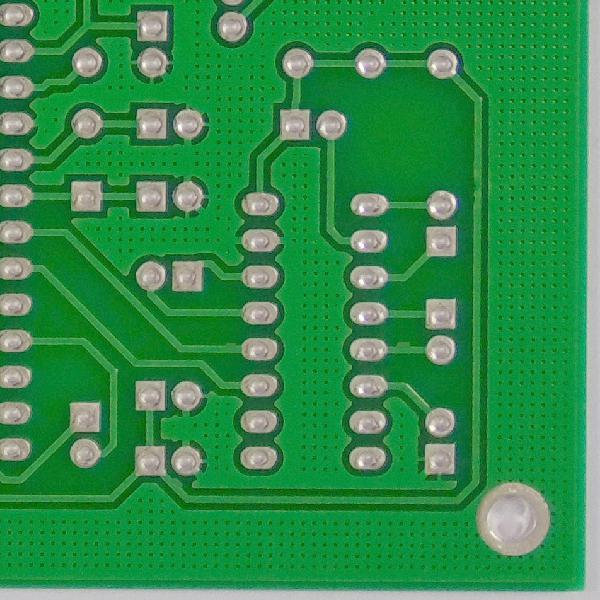spur: (221, 336, 245, 359), (392, 335, 417, 356)
